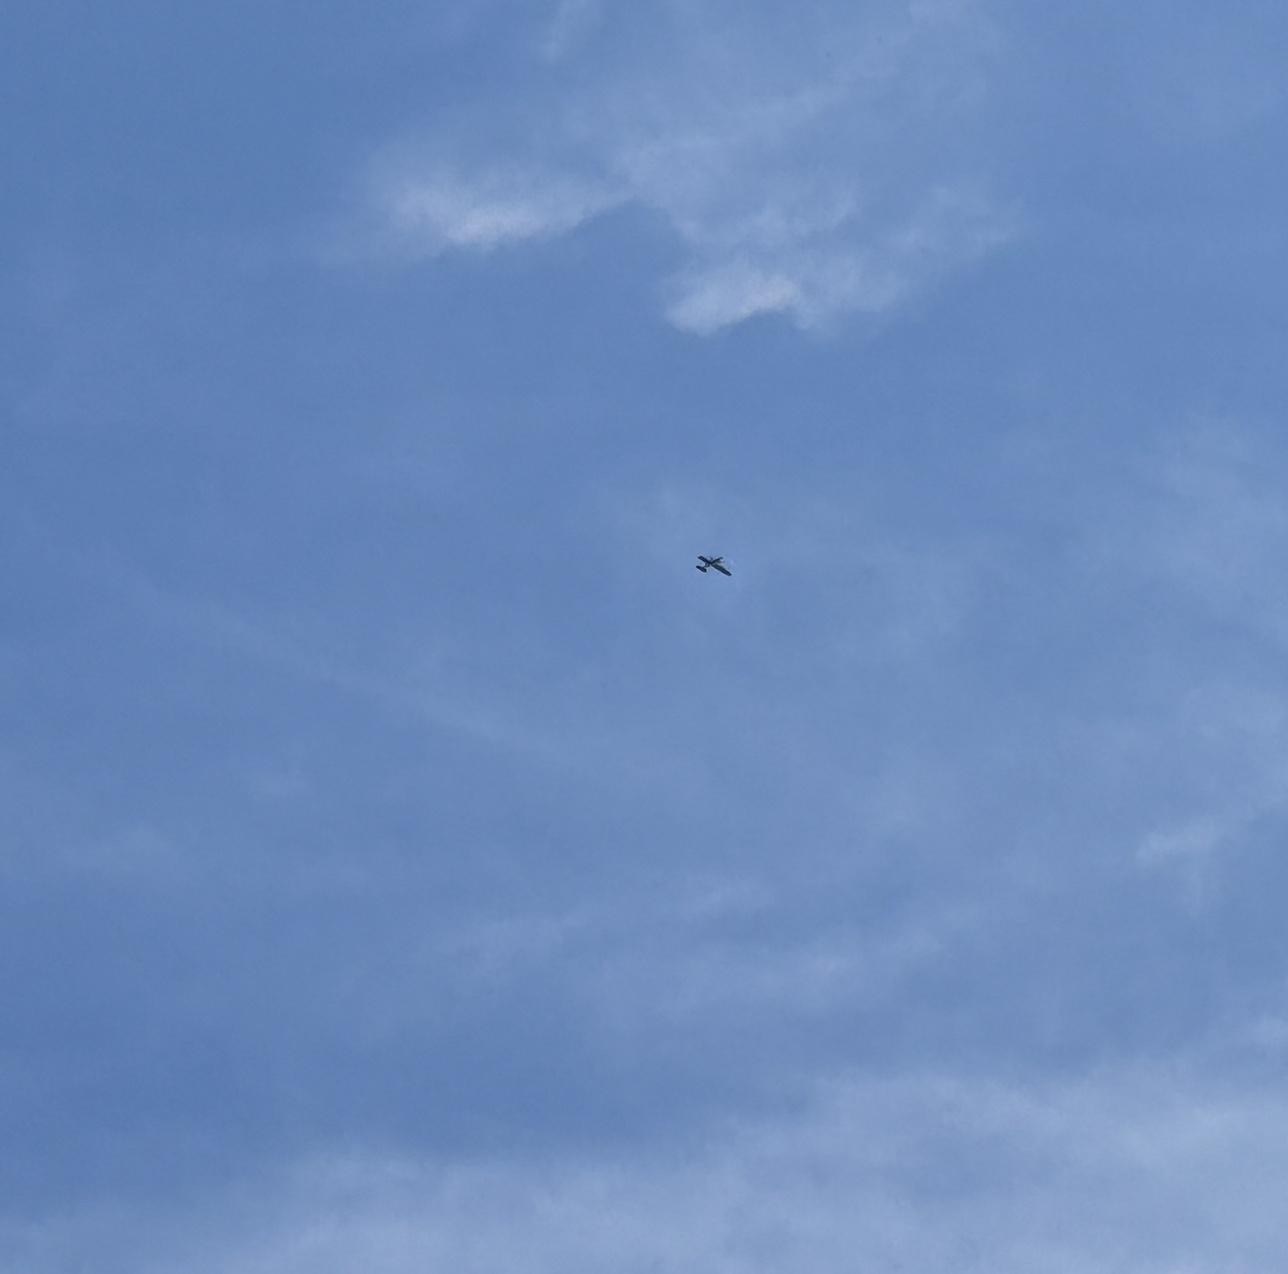Plane: (672, 531, 756, 598)
